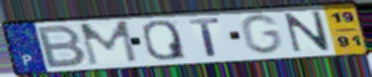B: (36, 23, 89, 70)
G: (238, 13, 285, 56)
M: (76, 19, 140, 68)
N: (282, 10, 333, 54)
Q: (140, 18, 189, 62)
T: (187, 16, 223, 58)
